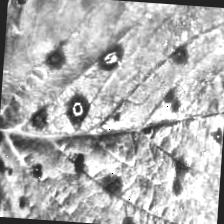Leaf Spot: (0, 0, 224, 224), (0, 136, 50, 219)
